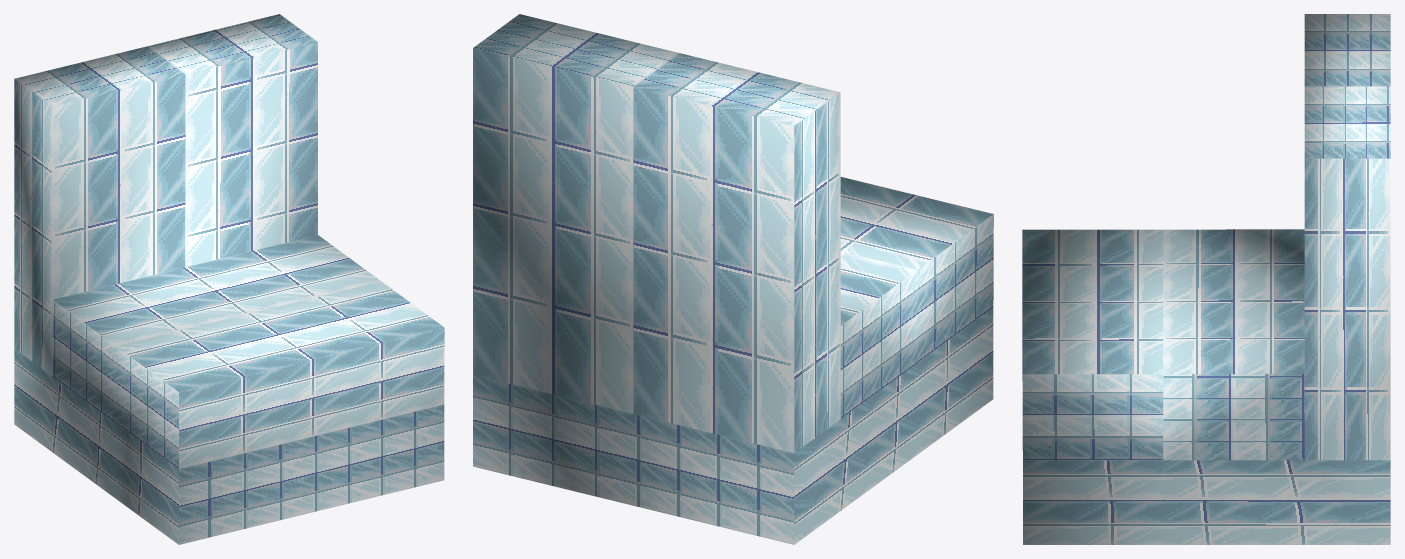
File: 3151IMFY03_03.gltf
3 views of the same model, side by side, from view 1: azimuth 30°, elevation 25°; view 2: azimuth 150°, elevation 25°; view 3: azimuth 270°, elevation 25° (orthographic). The views are drawn at different scales.
Parts seen in each view (by area): view 1: 3151IMFY03_03; view 2: 3151IMFY03_03; view 3: 3151IMFY03_03.
Part boxes in pixels (x1,y1,x2,y2): 3151IMFY03_03: (14, 14, 444, 544); 3151IMFY03_03: (473, 14, 993, 544); 3151IMFY03_03: (1022, 14, 1390, 544).
Size of the model in its own units: 0.8003 by 0.9956 by 0.8596.
2 materials, 2 textured.
